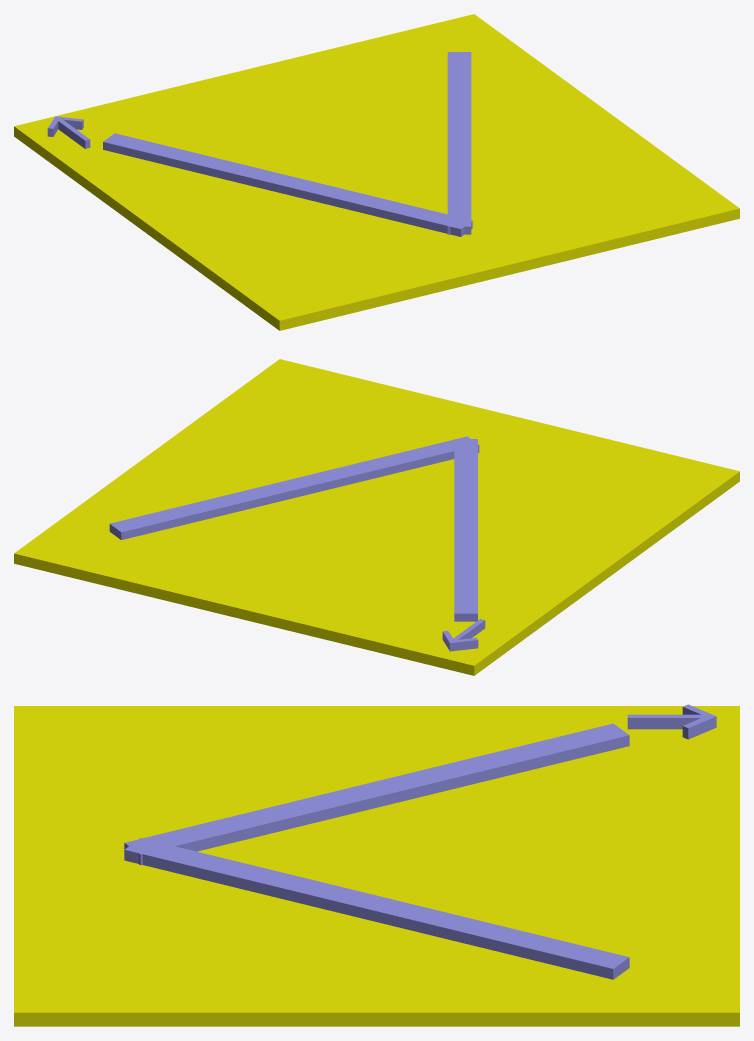
File: mark_5.fbx
3 renders of one model, top to bottom at view 1: azimuth 30°, elevation 25°; view 2: azimuth 150°, elevation 25°; view 3: azimuth 270°, elevation 25°, orthographic. The views are drawn at different scales.
Parts seen in each view (by area): view 1: pCube3, pCube9, pCube8; view 2: pCube3, pCube8, pCube9; view 3: pCube3, pCube8, pCube9, pCube7.
Boxes of the visible parts, bbox=[...] form: pCube3: bbox=[14, 14, 739, 330]; pCube9: bbox=[103, 133, 472, 236]; pCube8: bbox=[447, 52, 471, 234]; pCube3: bbox=[14, 359, 739, 675]; pCube8: bbox=[109, 436, 479, 539]; pCube9: bbox=[454, 439, 477, 621]; pCube3: bbox=[14, 706, 739, 1026]; pCube8: bbox=[124, 838, 629, 979]; pCube9: bbox=[124, 723, 629, 865]; pCube7: bbox=[627, 714, 704, 729].
Size of the model in its own units: 0.9 by 0.0345 by 0.9.
